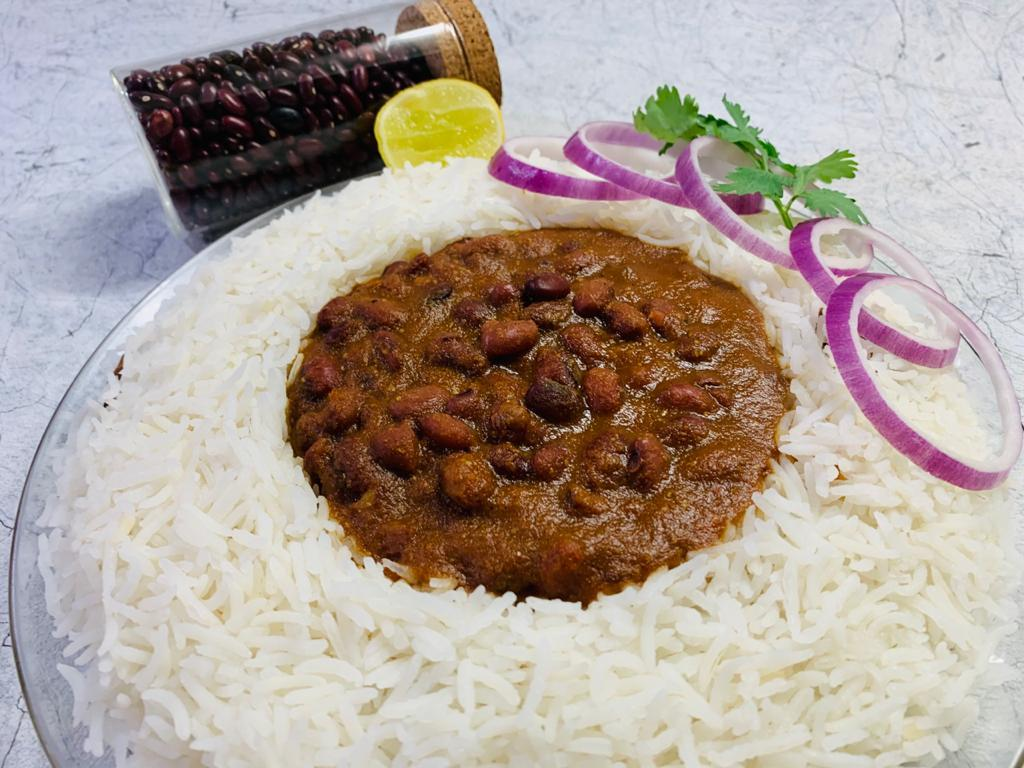rajma: (354, 254, 748, 576)
rice: (76, 588, 1024, 768)
